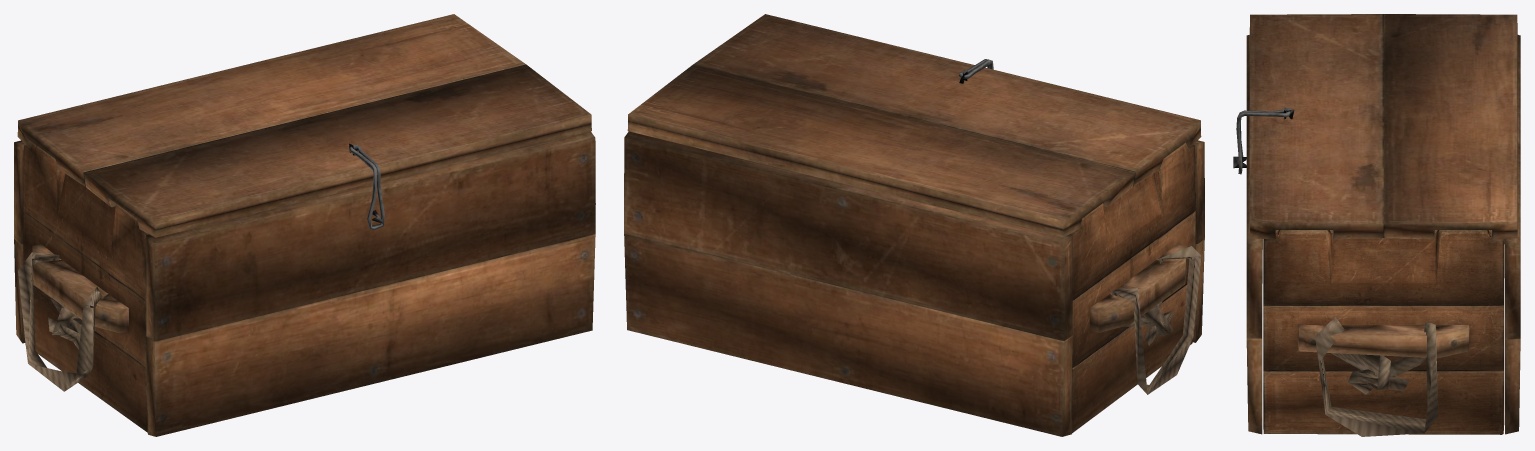
The model's file is crate.glb.
3 views of the same model, side by side, from view 1: azimuth 30°, elevation 25°; view 2: azimuth 150°, elevation 25°; view 3: azimuth 270°, elevation 25° (orthographic). The views are drawn at different scales.
Visible parts, largest first — view 1: wooden_crate_01, wooden_crate_01_lid, wooden_crate_01_latch; view 2: wooden_crate_01, wooden_crate_01_lid; view 3: wooden_crate_01_lid, wooden_crate_01, wooden_crate_01_latch.
Part boxes in pixels (<box>): wooden_crate_01: <box>14,131,595,436</box>; wooden_crate_01_lid: <box>17,14,591,237</box>; wooden_crate_01_latch: <box>350,145,384,229</box>; wooden_crate_01: <box>624,131,1204,436</box>; wooden_crate_01_lid: <box>627,14,1201,237</box>; wooden_crate_01_lid: <box>1249,14,1517,239</box>; wooden_crate_01: <box>1233,35,1520,436</box>; wooden_crate_01_latch: <box>1236,110,1290,174</box>.
Size of the model in its own units: 0.818 by 0.3468 by 0.4043.
1 material, 1 textured.
